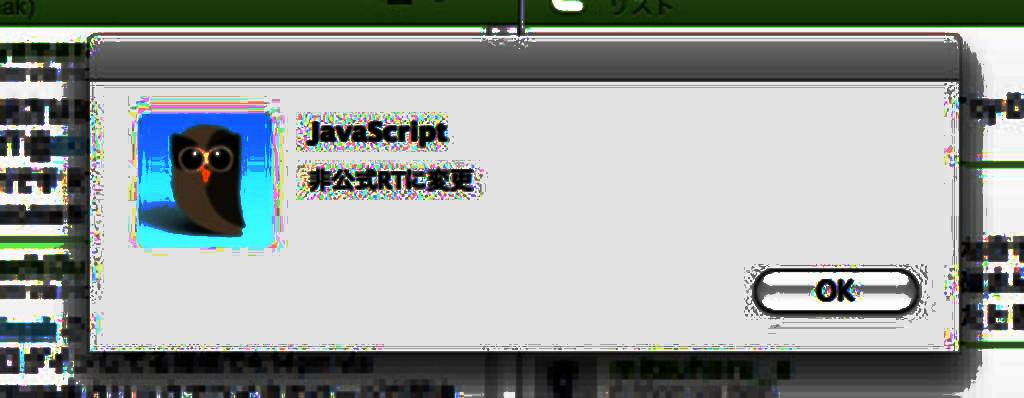Owl: (170, 124, 245, 233)
